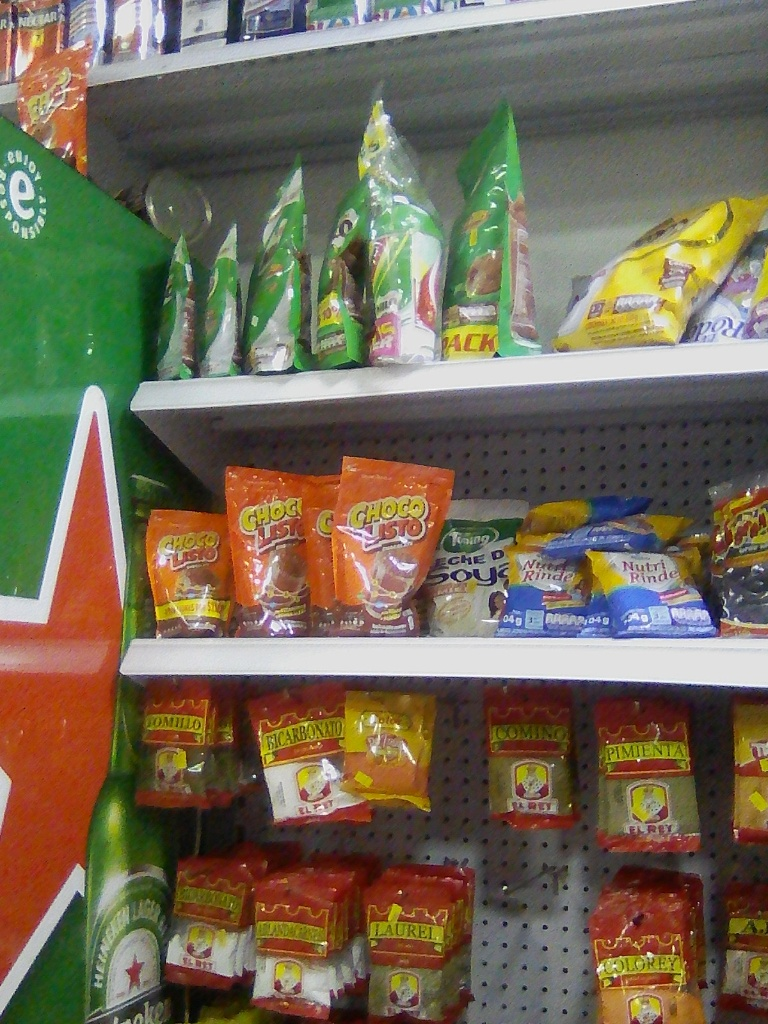COL0170103SOB02000: (2, 33, 108, 174)
